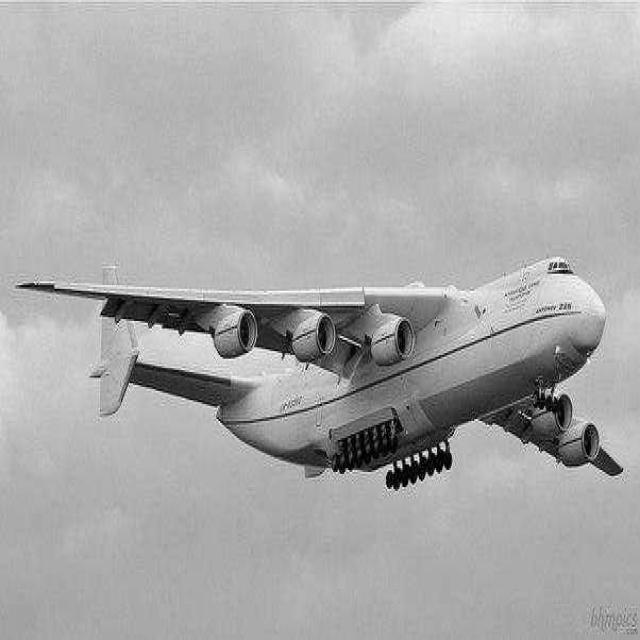Aircraft: (20, 236, 624, 512)
